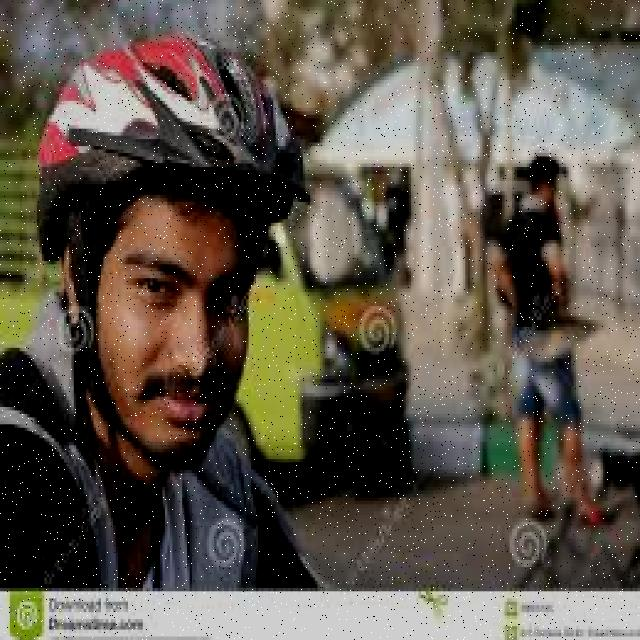with-helmet: (38, 25, 319, 470)
